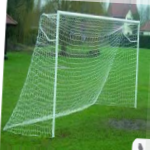goals: (3, 9, 142, 137)
